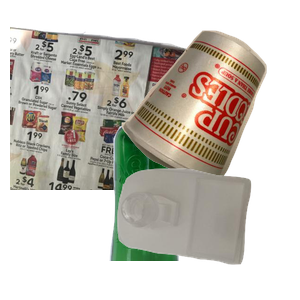glass: (107, 120, 278, 300)
paper: (10, 22, 225, 202)
plastic: (115, 166, 300, 300)
trash: (119, 28, 300, 207)
